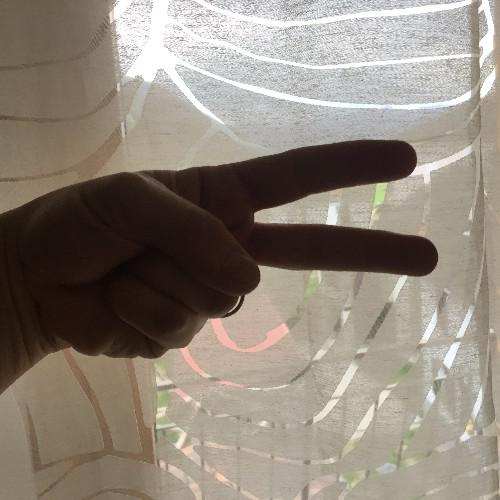scissors: (16, 135, 442, 364)
